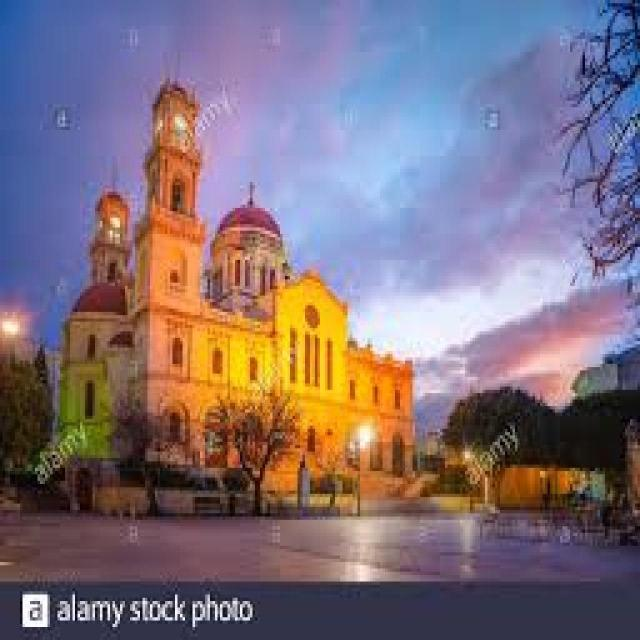Agios Minas: (66, 66, 418, 509)
